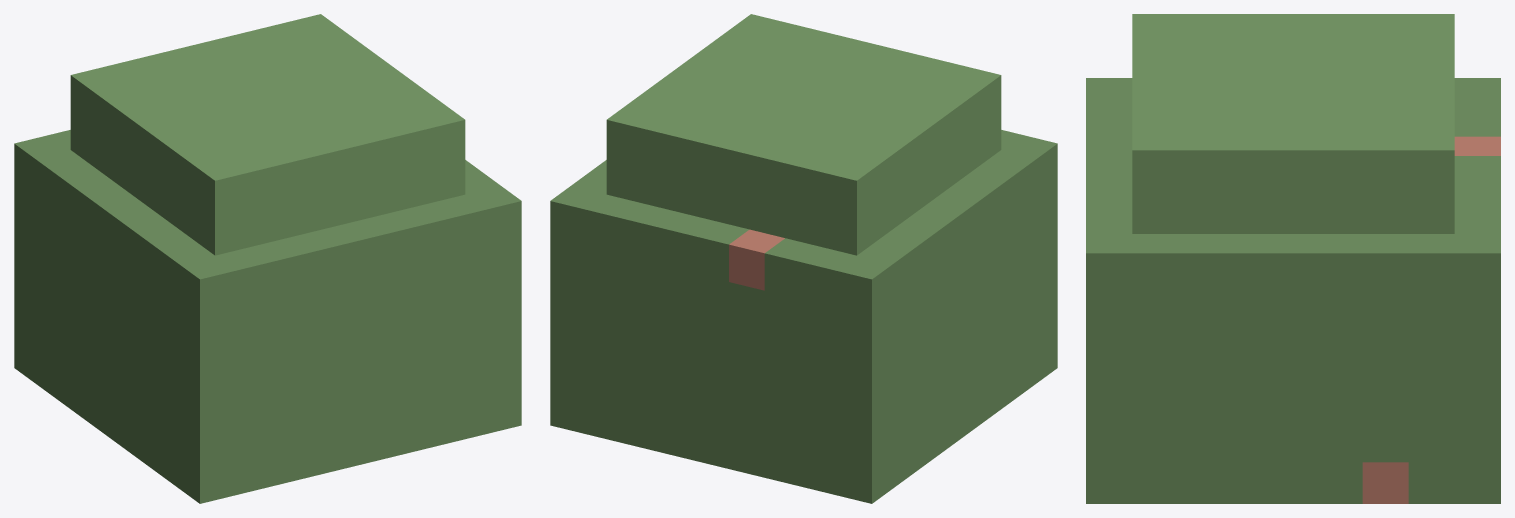
The model's file is serbal_04.glb.
3 views of the same model, side by side, from view 1: azimuth 30°, elevation 25°; view 2: azimuth 150°, elevation 25°; view 3: azimuth 270°, elevation 25° (orthographic). The views are drawn at different scales.
Visible parts, largest first — view 1: serbal_04; view 2: serbal_04; view 3: serbal_04.
Boxes of the visible parts, x1,y1,x2,y2 form: serbal_04: (14,14,521,503); serbal_04: (550,14,1057,503); serbal_04: (1086,14,1500,503).
Bounding box in the file's own units: 0.9 × 0.8 × 0.9.
